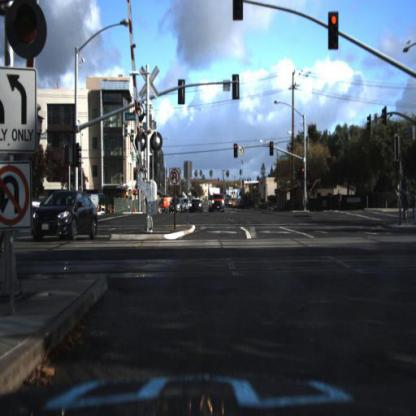biker: (400, 185, 411, 227)
car: (29, 176, 105, 247), (32, 185, 101, 245), (213, 192, 232, 215), (166, 195, 184, 218), (189, 195, 204, 216), (170, 199, 182, 215)
pedestrian: (401, 167, 414, 232), (334, 181, 347, 217), (335, 188, 346, 212), (411, 184, 416, 219)
trafficLight: (232, 1, 244, 25), (234, 140, 239, 162)
trafficLight-Red: (328, 13, 339, 51), (300, 159, 306, 177), (270, 141, 276, 158), (302, 164, 307, 176)
